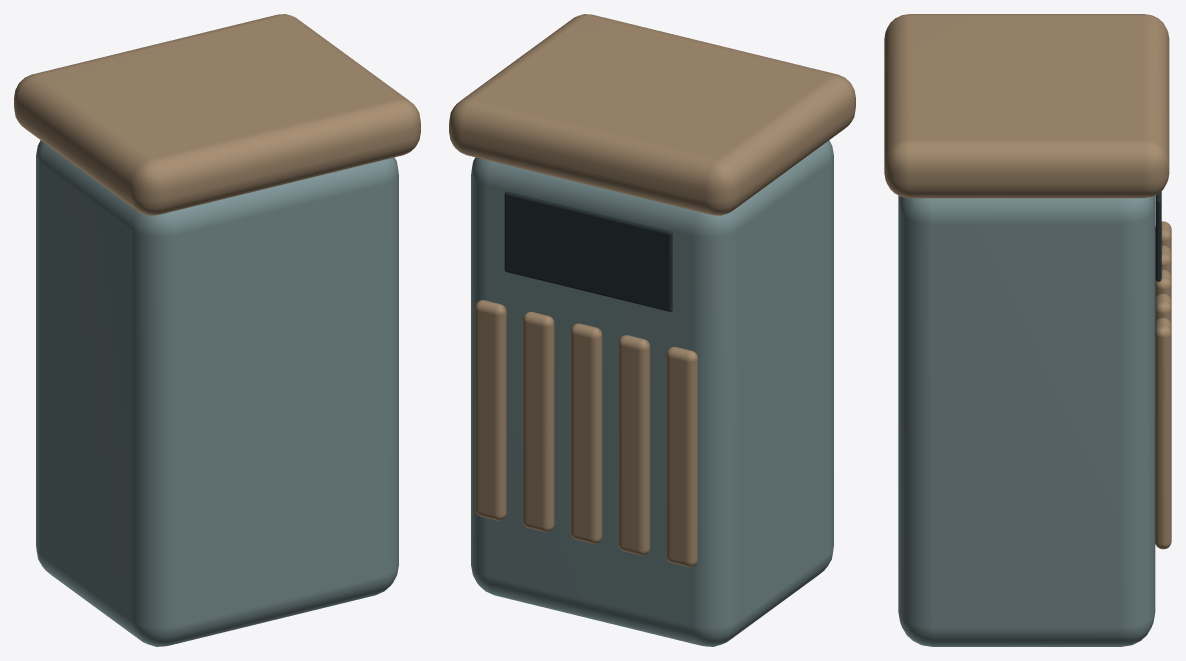
The model's file is campus_bin.glb.
3 views of the same model, side by side, from view 1: azimuth 30°, elevation 25°; view 2: azimuth 150°, elevation 25°; view 3: azimuth 270°, elevation 25° (orthographic). The views are drawn at different scales.
Visible parts, largest first — view 1: BinBody, BinSlat; view 2: BinBody, BinSlat, BinOpening; view 3: BinBody, BinSlat, BinOpening.
Boxes of the visible parts, x1=… form: BinBody: x1=36, y1=140, x2=398, y2=646; BinSlat: x1=14, y1=14, x2=420, y2=215; BinBody: x1=471, y1=140, x2=833, y2=646; BinSlat: x1=449, y1=14, x2=855, y2=567; BinOpening: x1=504, y1=191, x2=672, y2=311; BinBody: x1=898, y1=195, x2=1155, y2=646; BinSlat: x1=884, y1=14, x2=1171, y2=549; BinOpening: x1=1155, y1=191, x2=1161, y2=281.
Size of the model in its own units: 0.6 by 0.995 by 0.504.
